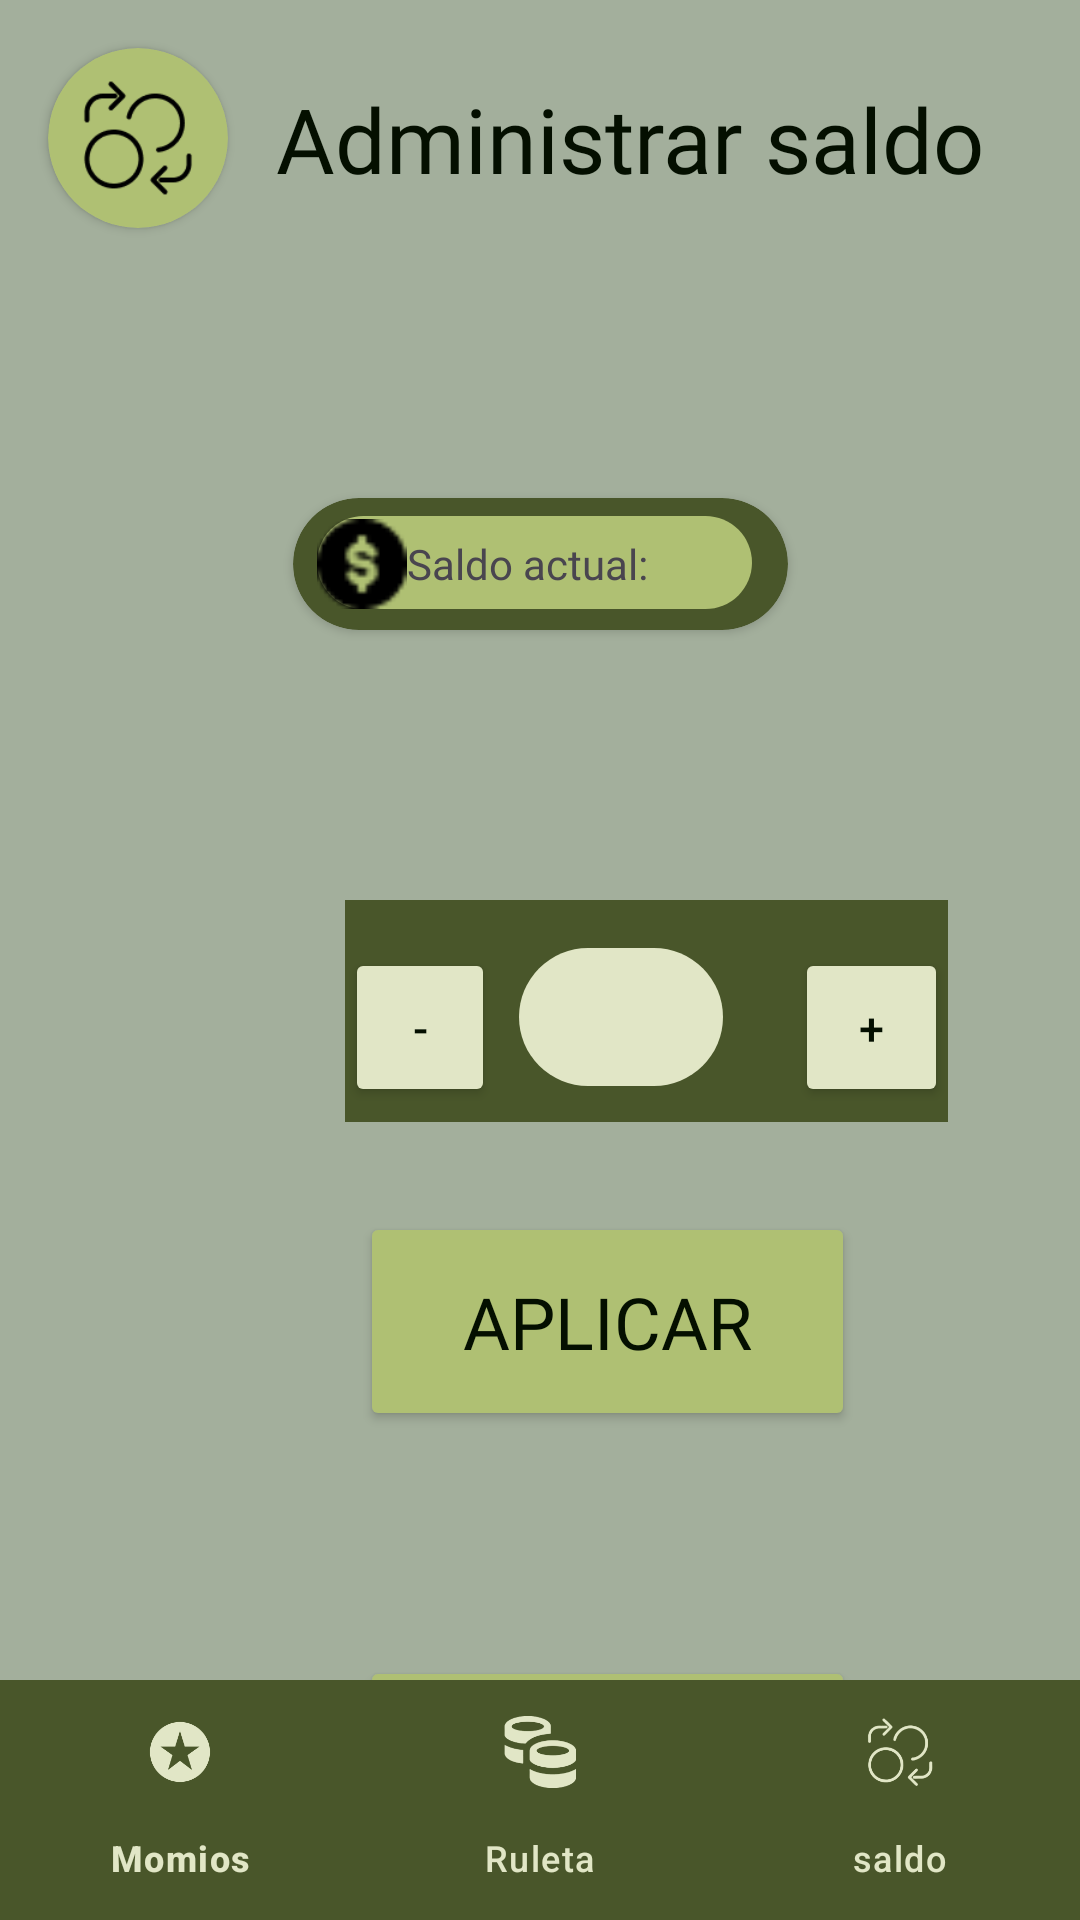

Named icons in this screenshot (1080x1920) and their bounding boxes, (x1, y1, x2, y2):
dollar: (317, 519, 407, 609)
